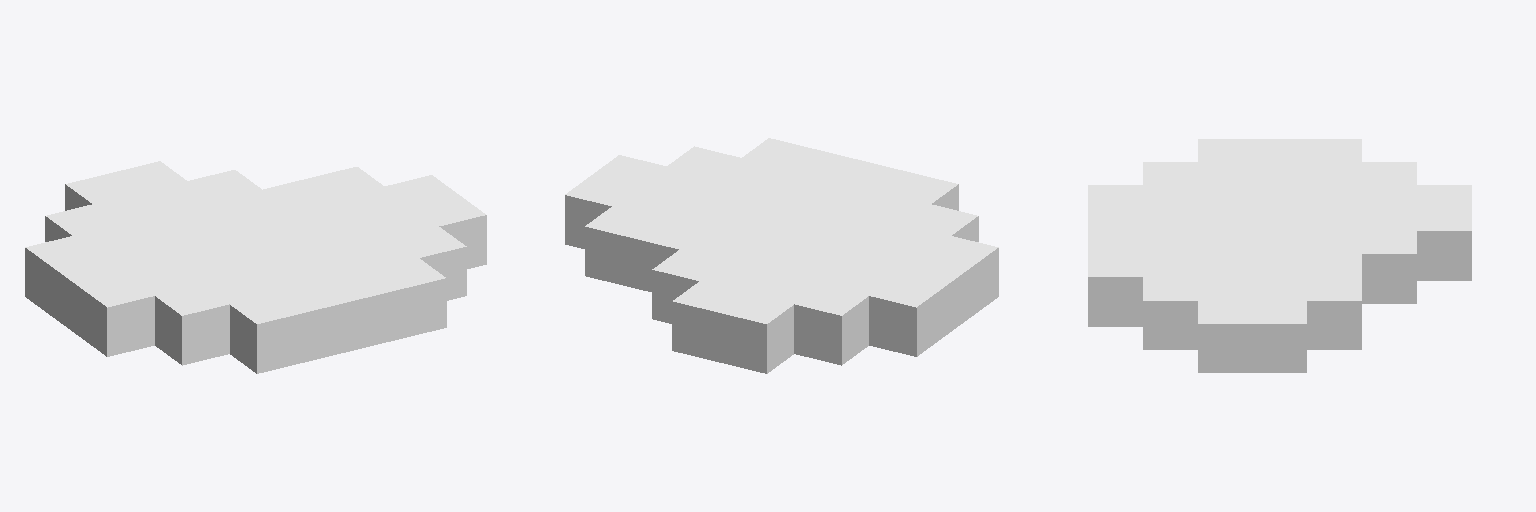
The model's file is Mini_Wind.obj.
3 renders of one model, left to right at view 1: azimuth 30°, elevation 25°; view 2: azimuth 150°, elevation 25°; view 3: azimuth 270°, elevation 25°, orthographic.
Parts seen in each view (by area): view 1: object 1; view 2: object 1; view 3: object 1.
Part boxes in pixels (x1,y1,x2,y2): object 1: (25, 161, 486, 373); object 1: (565, 138, 998, 373); object 1: (1088, 139, 1471, 372).
Size of the model in its own units: 0.8 by 0.1 by 0.7.